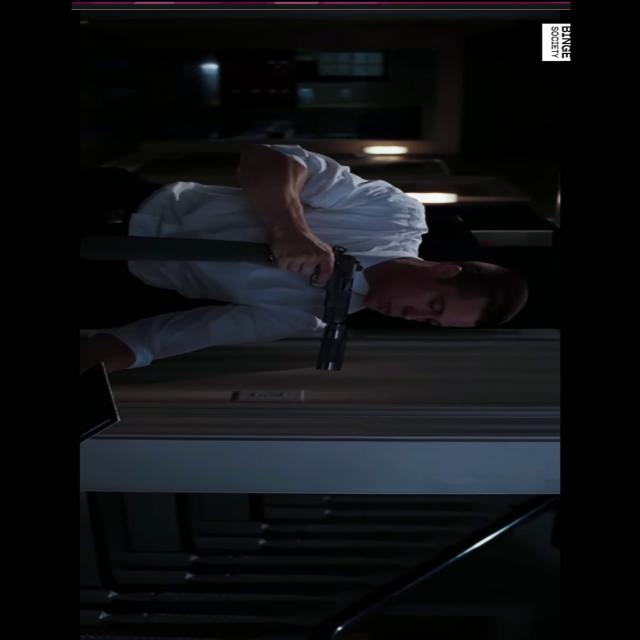weapons: (243, 222, 387, 376)
